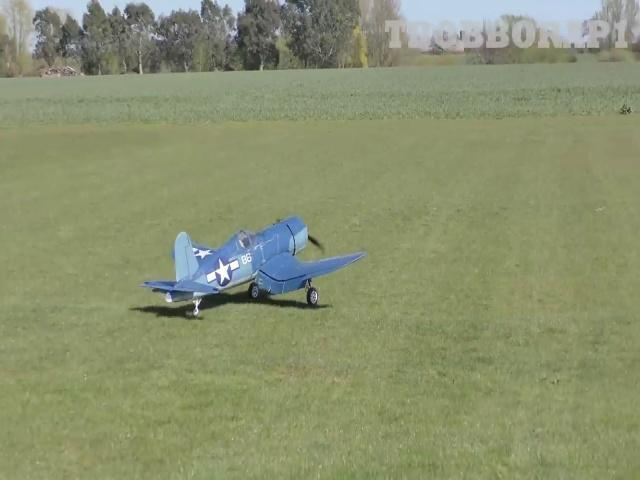Airplane: (140, 216, 366, 317)
